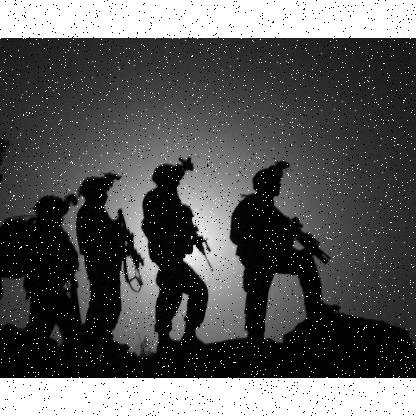gun: (119, 204, 144, 292), (294, 213, 330, 261), (190, 218, 212, 270)
